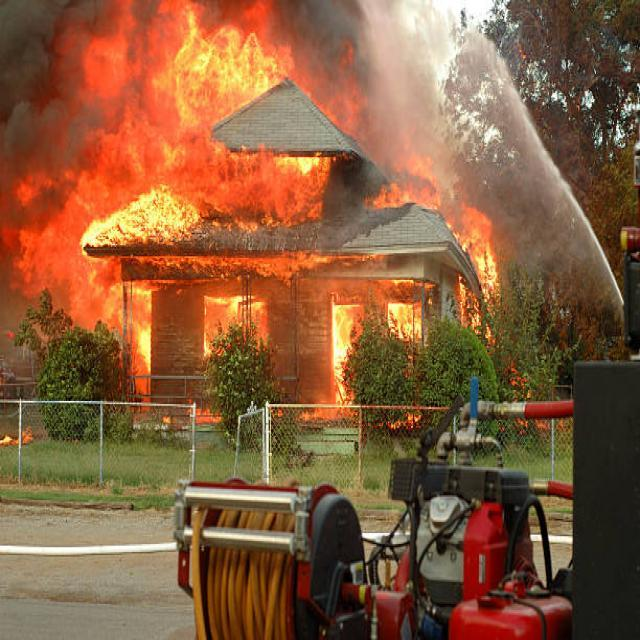Fire: (50, 23, 503, 376)
Smoke: (0, 0, 115, 318), (272, 0, 387, 101)
